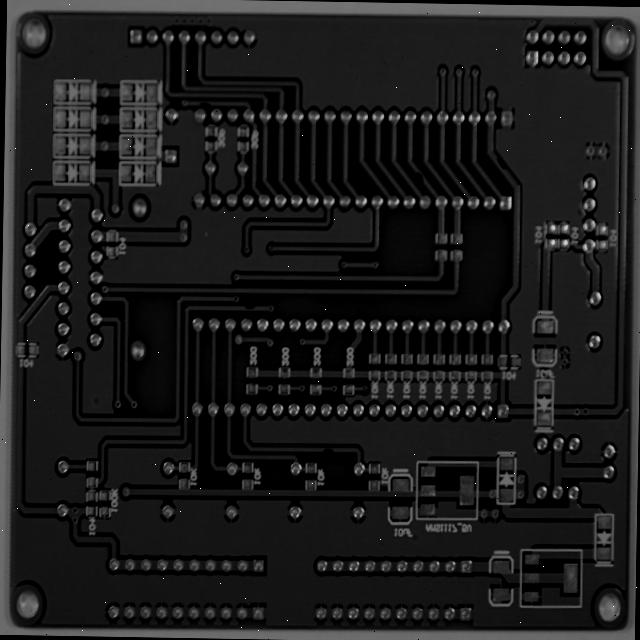mouse_bite: (481, 167, 501, 190), (296, 490, 319, 506), (166, 105, 187, 120), (213, 331, 233, 346), (396, 184, 411, 203)
